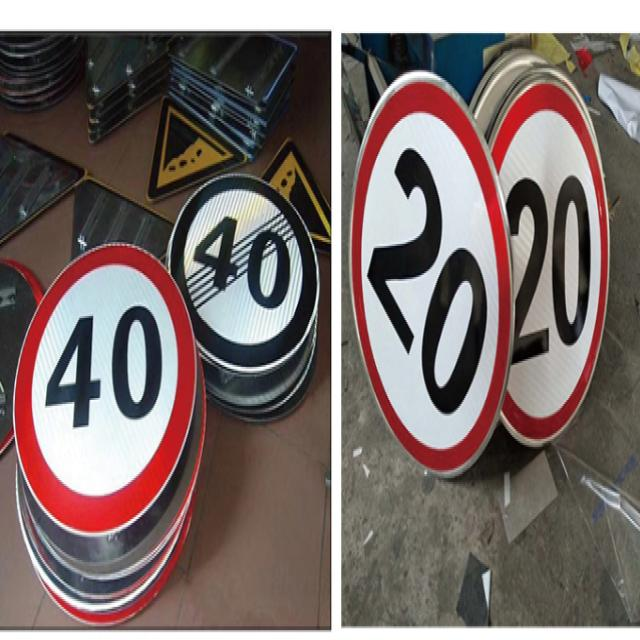speed limit 20: (350, 71, 515, 481), (486, 80, 610, 450)
speed limit 40: (13, 240, 196, 539)
